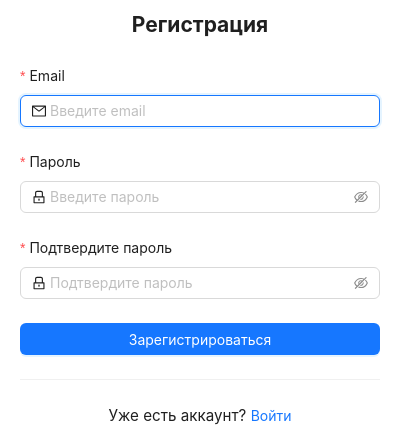
RegisterForm › Валидация формы › должен показывать ошибку при неверном формате email
In the field labelled "Email": x=209, y=111 [50, 100, 368, 122], type "invalid-email"
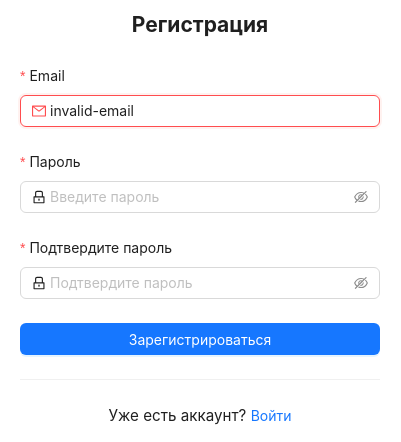
Click the button "Зарегистрироваться": x=200, y=339 [20, 323, 380, 355]
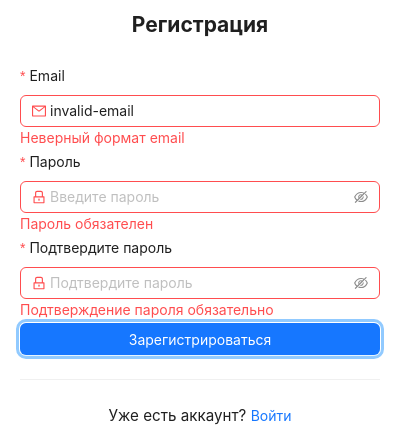
Check: the text "Неверный формат email" is shown, box [20, 129, 185, 146]
